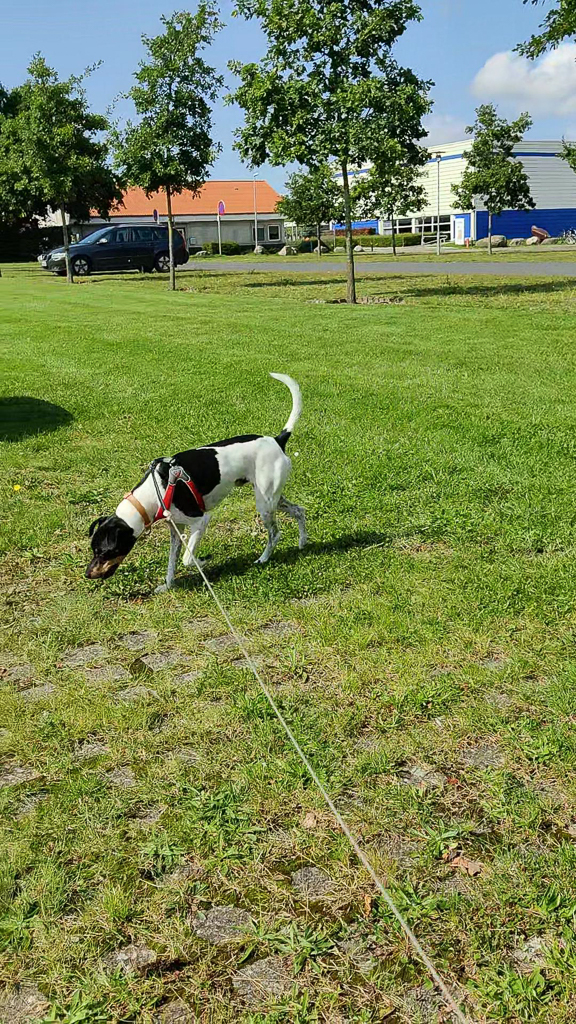Dog: (68, 369, 317, 599)
